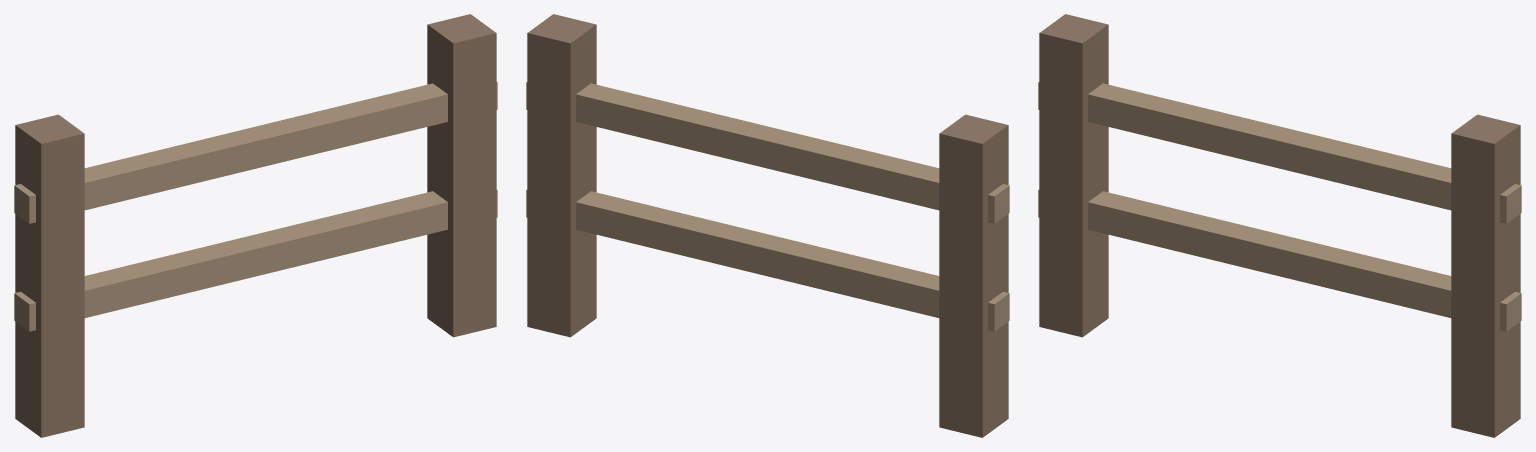
The model's file is cerca_segmento.glb.
3 views of the same model, side by side, from view 1: azimuth 30°, elevation 25°; view 2: azimuth 150°, elevation 25°; view 3: azimuth 330°, elevation 25° (orthographic).
Visible parts, largest first — view 1: part_000, part_001, part_002, part_003; view 2: part_000, part_001, part_002, part_003; view 3: part_001, part_000, part_002, part_003.
Boxes of the visible parts, <box> form: part_000: <box>15,114,84,437</box>; part_001: <box>427,14,496,337</box>; part_002: <box>14,189,497,331</box>; part_003: <box>14,82,497,223</box>; part_000: <box>939,114,1008,437</box>; part_001: <box>527,14,596,337</box>; part_002: <box>526,189,1009,331</box>; part_003: <box>526,82,1009,223</box>; part_001: <box>1451,114,1520,437</box>; part_000: <box>1039,14,1108,337</box>; part_002: <box>1038,189,1521,331</box>; part_003: <box>1038,82,1521,223</box>.
Size of the model in its own units: 2.5 by 1.5 by 0.24.
